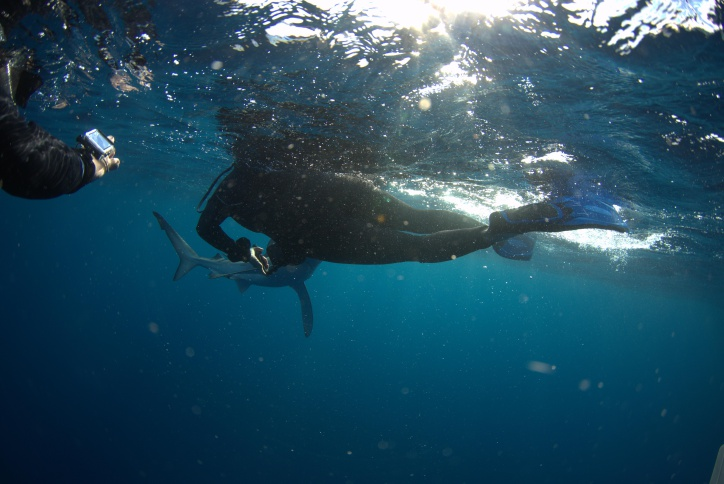Azul: (143, 203, 338, 349)
